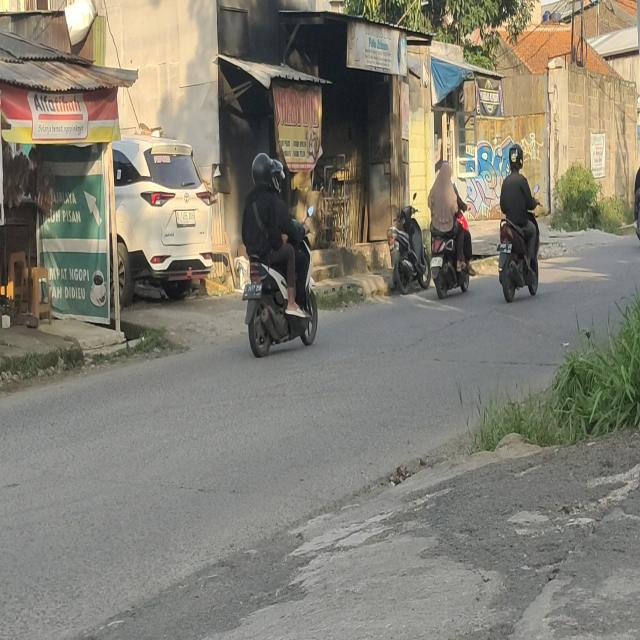helmet: (252, 152, 272, 188), (508, 144, 524, 169), (273, 160, 285, 193)
no-helmet: (438, 162, 453, 186)
